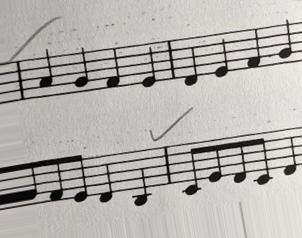note: (35, 48, 56, 100), (181, 35, 201, 89), (137, 41, 159, 90), (244, 24, 265, 73), (70, 46, 91, 94), (275, 16, 294, 68), (101, 45, 122, 90), (97, 152, 114, 206), (282, 127, 299, 179), (212, 31, 230, 79)
